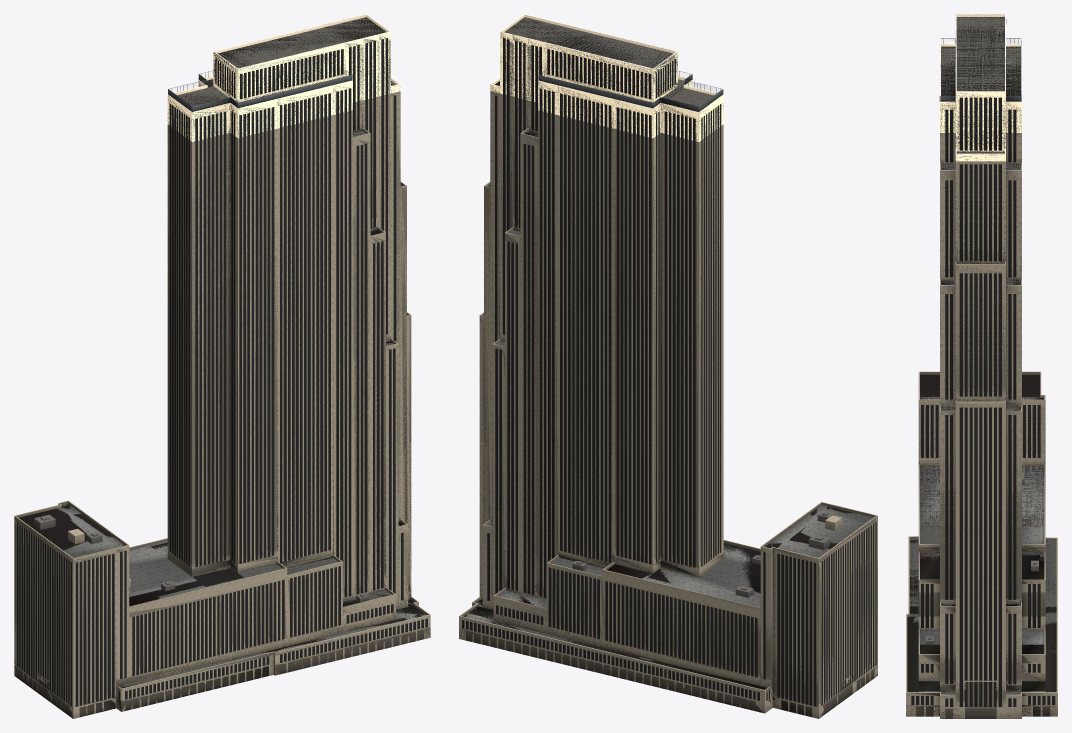
Rendered from rockefeller_30.glb.
The picture shows the model from 3 angles, left to right: view 1: azimuth 30°, elevation 25°; view 2: azimuth 150°, elevation 25°; view 3: azimuth 270°, elevation 25°; orthographic projection. The views are drawn at different scales.
Parts seen in each view (by area): view 1: rockefeller_30_far, rockefeller_30; view 2: rockefeller_30_far, rockefeller_30; view 3: rockefeller_30_far, rockefeller_30.
Part boxes in pixels (left/top/right/bottom): rockefeller_30_far: left=14, top=15, right=430, bottom=718; rockefeller_30: left=14, top=14, right=430, bottom=718; rockefeller_30_far: left=459, top=17, right=877, bottom=718; rockefeller_30: left=459, top=14, right=877, bottom=718; rockefeller_30_far: left=906, top=14, right=1057, bottom=718; rockefeller_30: left=906, top=14, right=1057, bottom=718.
Size of the model in its own units: 163 by 259 by 57.84.
Materials: 10 (8 with a texture image).
